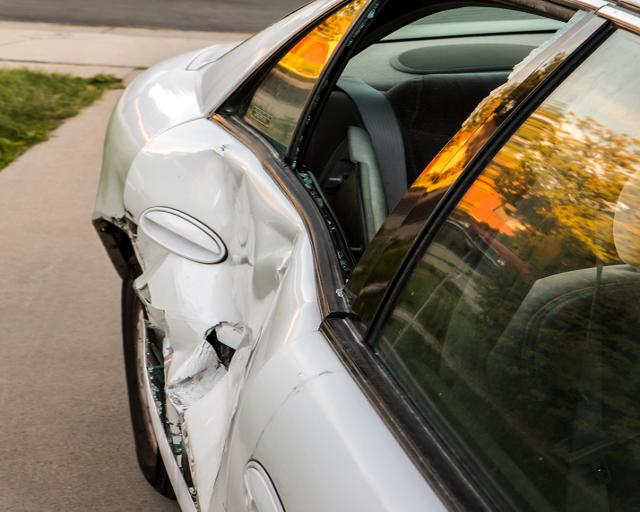crack: (204, 325, 238, 372)
dent: (148, 151, 299, 325), (148, 306, 201, 380)
